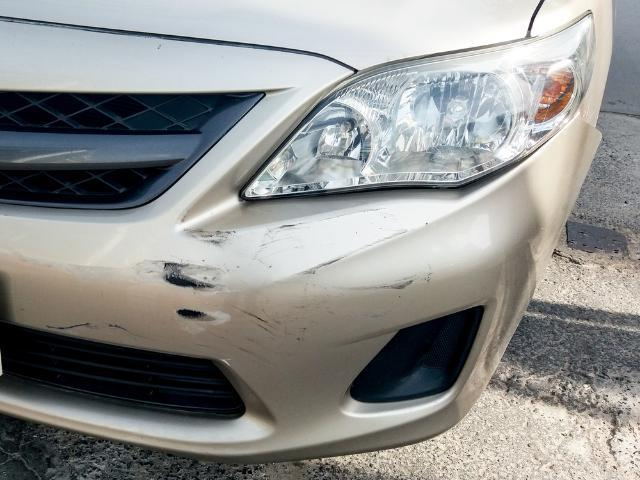Bumper: (38, 208, 430, 431)
